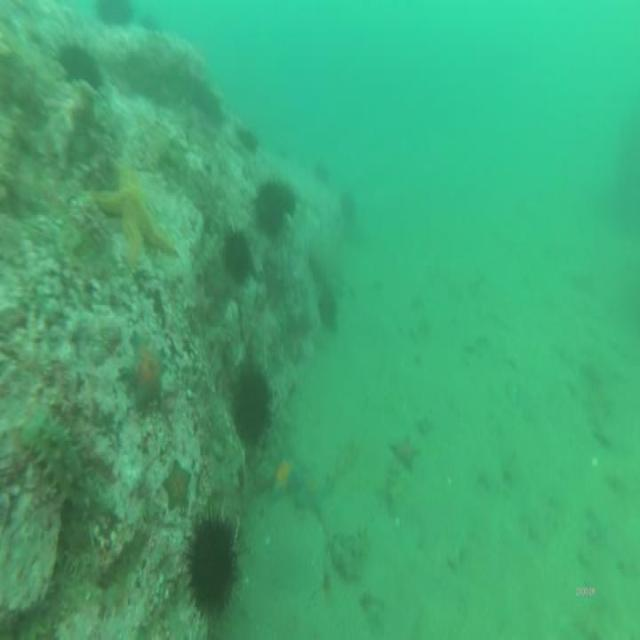echinus: (190, 518, 236, 606), (233, 358, 271, 446), (252, 178, 292, 238), (222, 230, 254, 288), (59, 41, 97, 89), (99, 2, 135, 25), (319, 291, 339, 324)
holothurian: (24, 414, 116, 522)
starfish: (92, 158, 176, 272), (122, 338, 166, 409), (266, 449, 301, 499), (161, 465, 193, 512), (298, 476, 332, 516), (391, 436, 421, 468)
